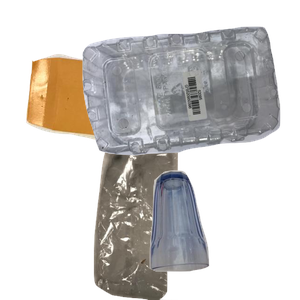glass: (147, 168, 300, 300)
paper: (23, 51, 206, 189)
plastic: (80, 24, 300, 172)
trash: (70, 120, 256, 300)
